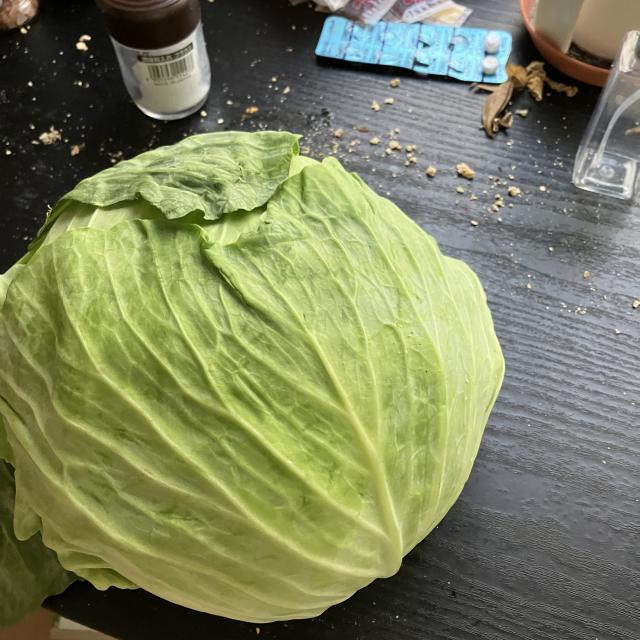cabbage: (0, 127, 509, 632)
